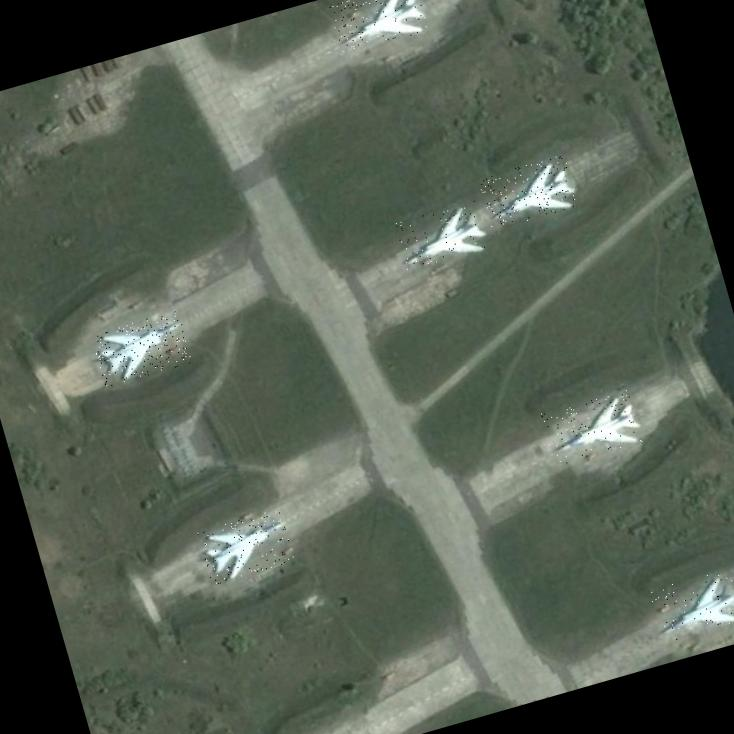A12: (90, 309, 193, 387), (539, 388, 642, 466), (477, 153, 578, 230), (197, 508, 294, 586), (392, 200, 488, 272), (646, 567, 734, 645), (327, 0, 428, 55)
